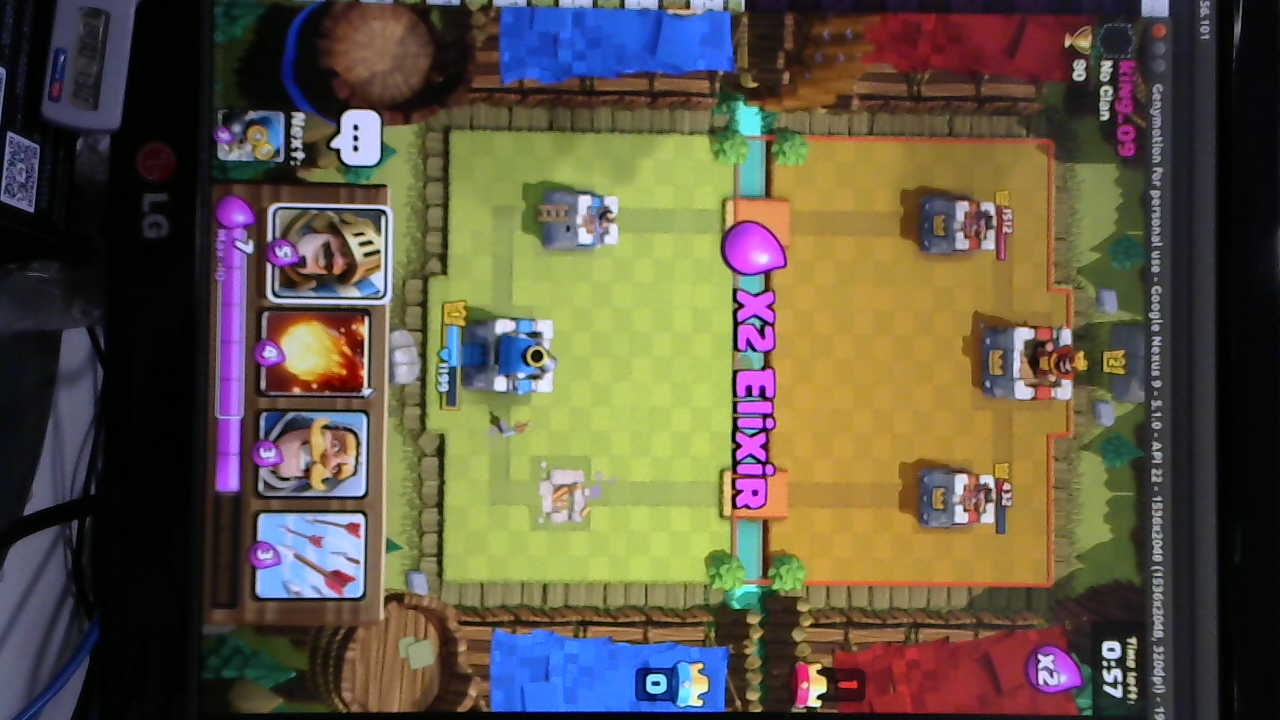arena: (540, 193, 622, 252)
darena: (535, 464, 586, 526)
earena: (918, 195, 999, 260), (924, 467, 1000, 528)
eking: (981, 318, 1084, 403)
king: (465, 315, 561, 397)
